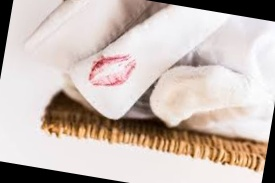lipstick: (86, 49, 136, 93)
